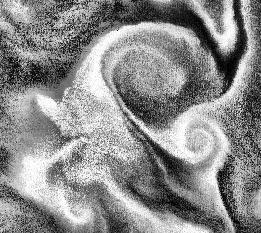AE: (86, 19, 224, 136)
CE: (170, 111, 231, 167)
